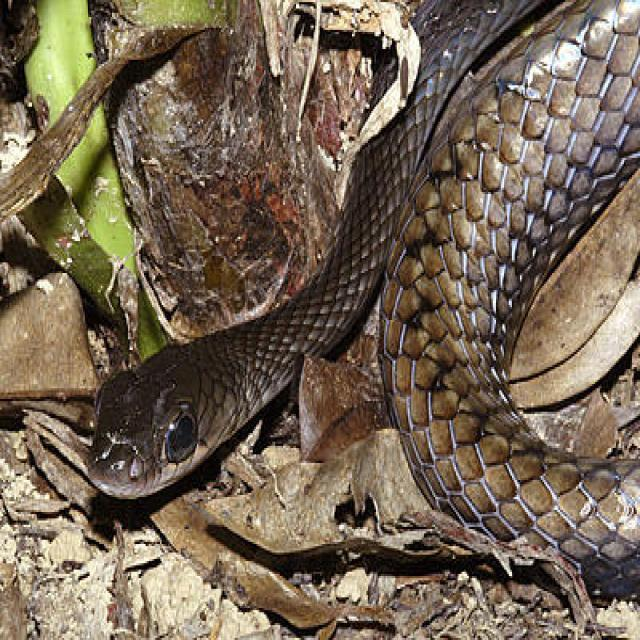Snake: (84, 0, 638, 602)
